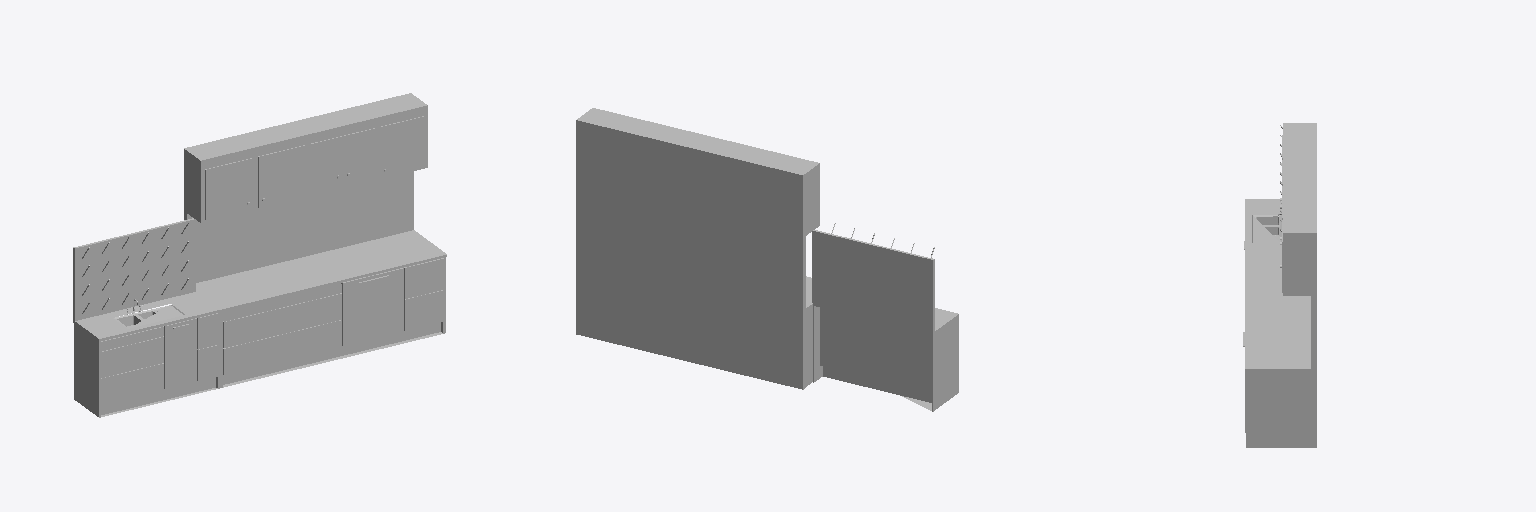
The model's file is sink.obj.
3 views of the same model, side by side, from view 1: azimuth 30°, elevation 25°; view 2: azimuth 150°, elevation 25°; view 3: azimuth 270°, elevation 25° (orthographic).
Visible parts, largest first — view 1: Mesh4 Kitchen_Island_by_MDS_Orlando1 Group4 Group3 Group1 Model, Mesh2 Cabinet_over_Stove1 Kitchen_Cabinets__Sink_and_Stove1 Grou, Mesh39 Kitchen_Island_by_MDS_Orlando_1_1 Group5 Group3 Group1 Mo, Mesh1 Group2 Group1 Model, Mesh29 Group30 Group5 Group3 Group1 Model, Mesh31 Reiber_Double_Kitchen_Sink1 ske22B1 Kitchen_Island_by_MDS; view 2: Mesh40 Group31 Group1 Model, Mesh39 Kitchen_Island_by_MDS_Orlando_1_1 Group5 Group3 Group1 Mo, Mesh29 Group30 Group5 Group3 Group1 Model, Mesh2 Cabinet_over_Stove1 Kitchen_Cabinets__Sink_and_Stove1 Grou, Mesh4 Kitchen_Island_by_MDS_Orlando1 Group4 Group3 Group1 Model; view 3: Mesh4 Kitchen_Island_by_MDS_Orlando1 Group4 Group3 Group1 Model, Mesh2 Cabinet_over_Stove1 Kitchen_Cabinets__Sink_and_Stove1 Grou, Mesh39 Kitchen_Island_by_MDS_Orlando_1_1 Group5 Group3 Group1 Mo, Mesh40 Group31 Group1 Model, Mesh31 Reiber_Double_Kitchen_Sink1 ske22B1 Kitchen_Island_by_MDS, Mesh1 Group2 Group1 Model.
Boxes of the visible parts, <box> form: Mesh4 Kitchen_Island_by_MDS_Orlando1 Group4 Group3 Group1 Model: <box>196,230,446,387</box>; Mesh2 Cabinet_over_Stove1 Kitchen_Cabinets__Sink_and_Stove1 Grou: <box>187,95,427,222</box>; Mesh39 Kitchen_Island_by_MDS_Orlando_1_1 Group5 Group3 Group1 Mo: <box>74,292,219,417</box>; Mesh1 Group2 Group1 Model: <box>185,94,413,282</box>; Mesh29 Group30 Group5 Group3 Group1 Model: <box>73,218,195,322</box>; Mesh31 Reiber_Double_Kitchen_Sink1 ske22B1 Kitchen_Island_by_MDS: <box>113,305,182,328</box>; Mesh40 Group31 Group1 Model: <box>576,119,804,389</box>; Mesh39 Kitchen_Island_by_MDS_Orlando_1_1 Group5 Group3 Group1 Mo: <box>813,304,958,411</box>; Mesh29 Group30 Group5 Group3 Group1 Model: <box>812,230,934,334</box>; Mesh2 Cabinet_over_Stove1 Kitchen_Cabinets__Sink_and_Stove1 Grou: <box>580,108,819,235</box>; Mesh4 Kitchen_Island_by_MDS_Orlando1 Group4 Group3 Group1 Model: <box>805,276,812,387</box>; Mesh4 Kitchen_Island_by_MDS_Orlando1 Group4 Group3 Group1 Model: <box>1245,258,1313,447</box>; Mesh2 Cabinet_over_Stove1 Kitchen_Cabinets__Sink_and_Stove1 Grou: <box>1280,123,1310,295</box>; Mesh39 Kitchen_Island_by_MDS_Orlando_1_1 Group5 Group3 Group1 Mo: <box>1245,199,1281,257</box>; Mesh40 Group31 Group1 Model: <box>1314,123,1316,447</box>; Mesh31 Reiber_Double_Kitchen_Sink1 ske22B1 Kitchen_Island_by_MDS: <box>1253,215,1281,242</box>; Mesh1 Group2 Group1 Model: <box>1311,123,1313,368</box>.
Bounding box in the file's own units: 178 × 105 × 32.72.